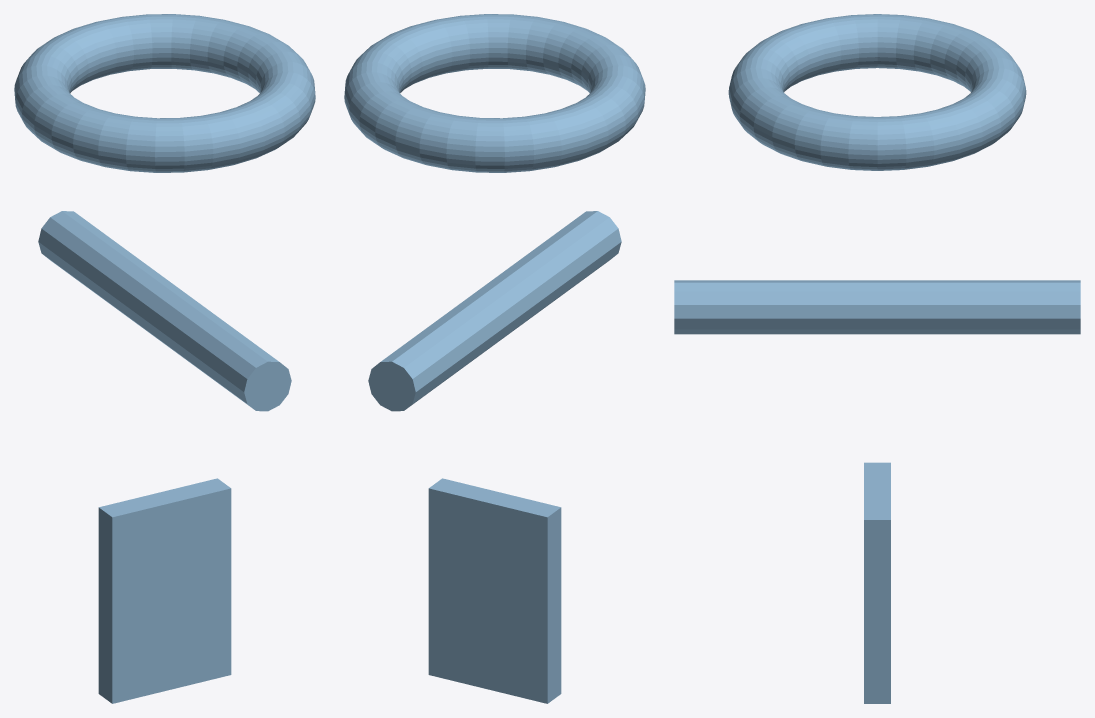
File: rsaf_lanyard_sa_ma.glb
The picture shows the model from 3 angles, left to right: view 1: azimuth 30°, elevation 25°; view 2: azimuth 150°, elevation 25°; view 3: azimuth 270°, elevation 25°; orthographic projection.
Parts seen in each view (by area): view 1: lanyard_loop, lanyard_tag, lanyard_cord; view 2: lanyard_loop, lanyard_tag, lanyard_cord; view 3: lanyard_loop, lanyard_cord, lanyard_tag.
Boxes of the visible parts, x1=… form: lanyard_loop: x1=14, y1=14, x2=315, y2=172; lanyard_tag: x1=98, y1=478, x2=231, y2=703; lanyard_cord: x1=38, y1=211, x2=291, y2=411; lanyard_loop: x1=344, y1=14, x2=645, y2=172; lanyard_tag: x1=428, y1=478, x2=561, y2=703; lanyard_cord: x1=368, y1=211, x2=621, y2=411; lanyard_loop: x1=728, y1=14, x2=1026, y2=170; lanyard_cord: x1=674, y1=280, x2=1080, y2=334; lanyard_tag: x1=864, y1=462, x2=890, y2=703.
Size of the model in its own units: 0.044 by 0.099 by 0.06.
